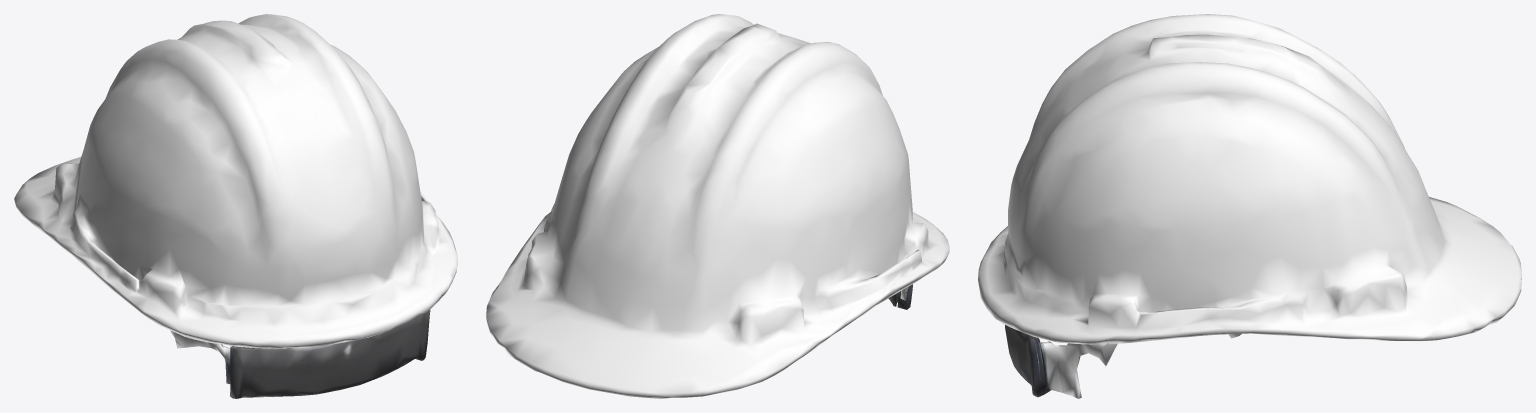
The model's file is helm.glb.
3 renders of one model, left to right at view 1: azimuth 30°, elevation 25°; view 2: azimuth 150°, elevation 25°; view 3: azimuth 270°, elevation 25°, orthographic. The views are drawn at different scales.
Bounding box in the file's own units: 1.47 × 1.25 × 2.
Materials: 1 (1 with a texture image).
